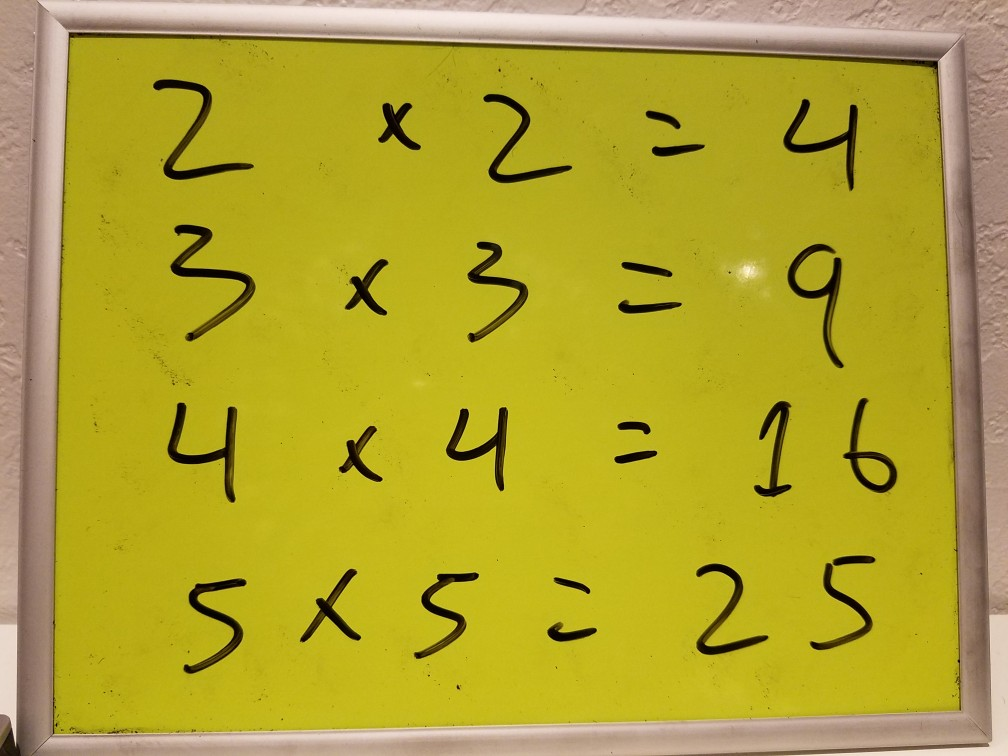1: (747, 394, 801, 505)
2: (146, 74, 256, 186), (474, 81, 580, 191), (686, 556, 773, 662)
3: (156, 213, 264, 351), (454, 229, 541, 352)
4: (776, 89, 866, 197), (162, 393, 244, 509), (441, 397, 517, 499)
5: (805, 545, 885, 657), (179, 569, 252, 681), (407, 562, 482, 660)
6: (836, 392, 904, 497)
9: (776, 239, 863, 376)
=: (533, 565, 604, 658), (612, 247, 687, 327), (630, 98, 711, 165), (604, 410, 663, 470)
x: (293, 566, 369, 654), (338, 250, 397, 328), (335, 417, 391, 498), (373, 93, 423, 158)
